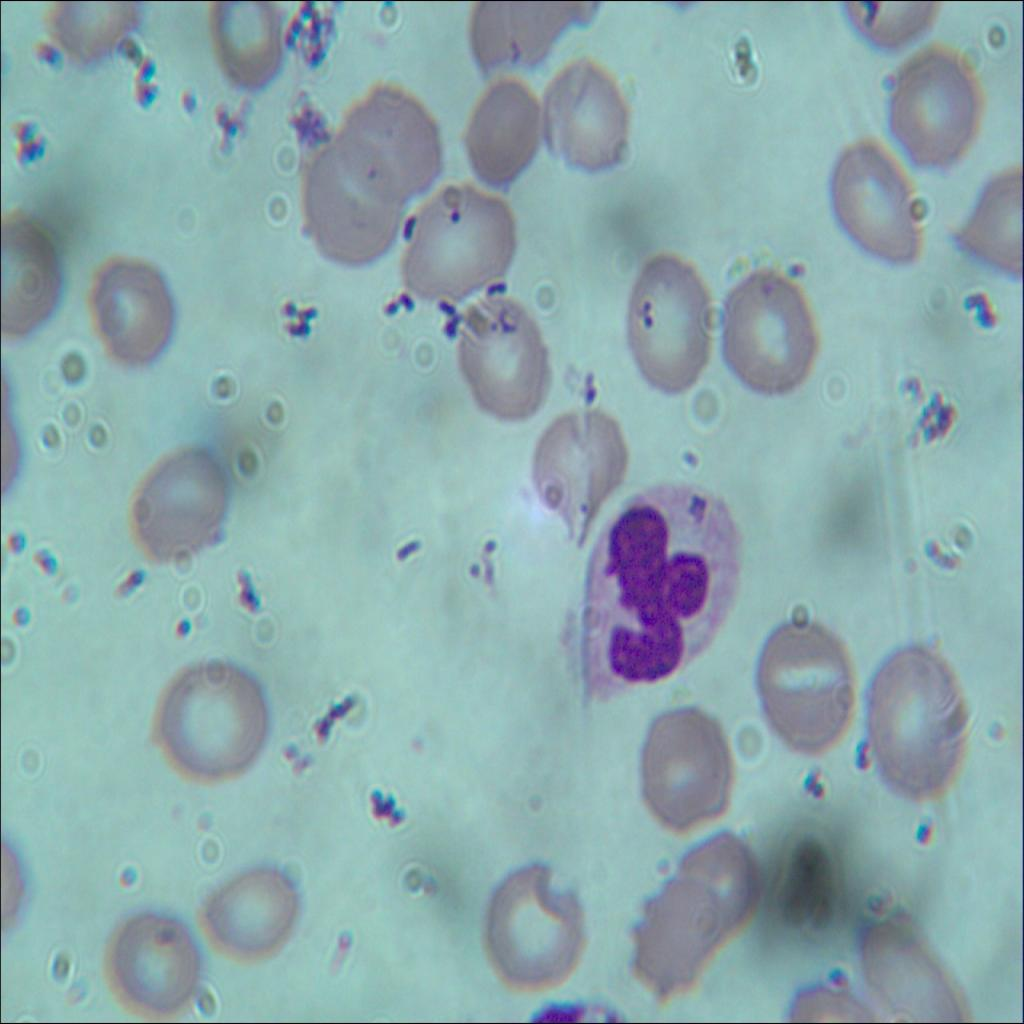Eritrosit: (863, 644, 973, 806), (148, 655, 275, 785), (478, 854, 590, 992), (129, 435, 233, 575), (450, 290, 562, 417), (620, 250, 718, 392), (518, 394, 626, 522), (724, 254, 818, 401), (301, 139, 404, 271), (848, 911, 969, 1023), (626, 867, 719, 1004), (829, 136, 928, 264), (400, 188, 510, 301), (638, 705, 739, 828), (103, 895, 209, 1012), (888, 44, 986, 165), (671, 818, 763, 944), (539, 61, 638, 177), (339, 89, 442, 194), (88, 249, 175, 372), (462, 79, 552, 188), (196, 867, 304, 957), (0, 205, 71, 341), (198, 0, 286, 100), (951, 164, 1023, 284)
Neutrofil: (553, 471, 748, 688)
Platelet: (910, 808, 946, 872), (26, 35, 66, 82), (781, 239, 816, 292), (670, 434, 704, 484), (174, 82, 208, 122), (168, 601, 198, 641), (833, 950, 855, 996), (878, 65, 902, 104), (274, 734, 296, 771), (446, 202, 462, 230)
